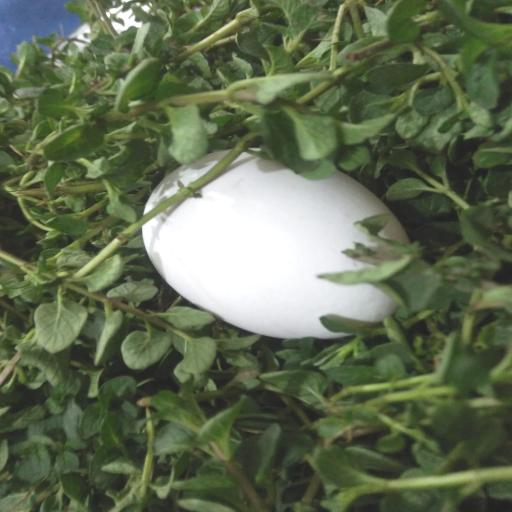telur: (136, 136, 432, 346)
